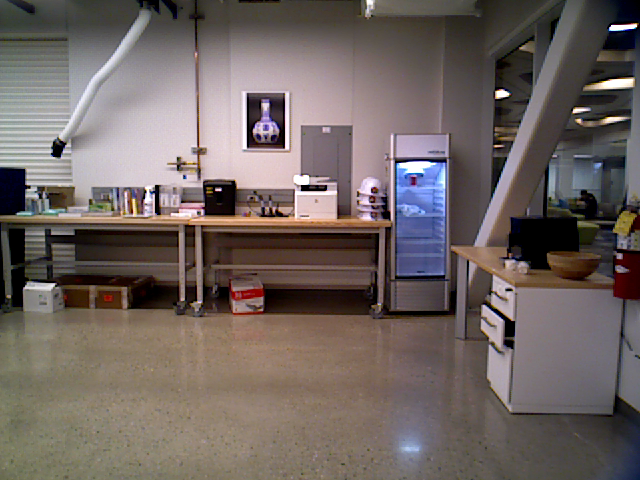painting2: (243, 90, 291, 154)
